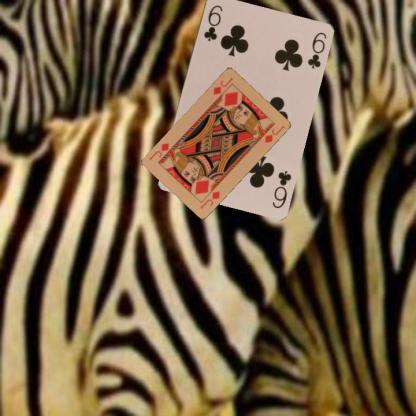6c: (201, 2, 224, 42), (270, 168, 292, 209)
Jd: (210, 74, 235, 96), (198, 188, 221, 210)
